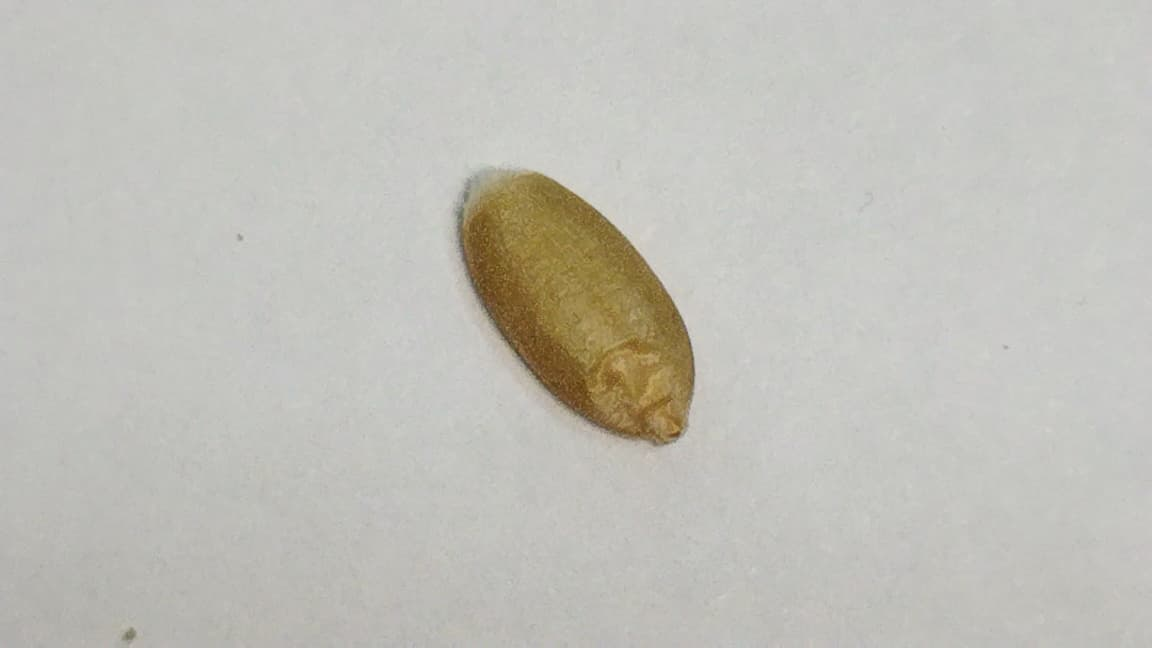healthy: (456, 168, 695, 451)
